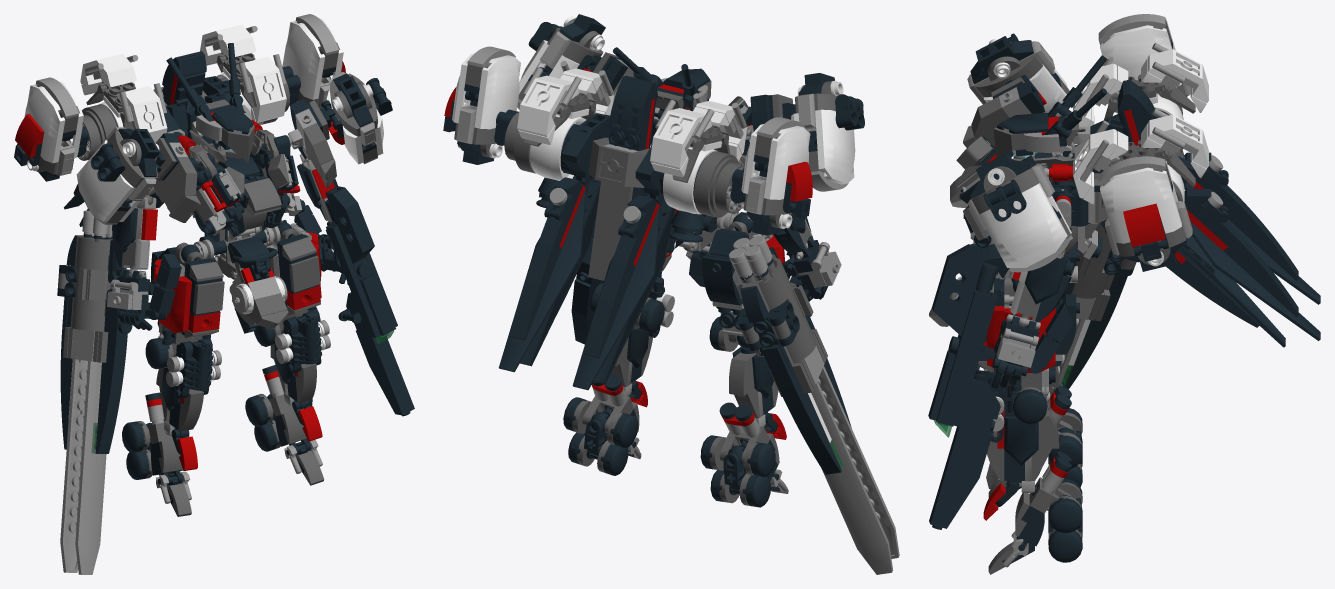
File: refx-tn-33-suzume.dae
3 views of the same model, side by side, from view 1: azimuth 30°, elevation 25°; view 2: azimuth 150°, elevation 25°; view 3: azimuth 270°, elevation 25° (orthographic). The views are drawn at different scales.
Bounding box in the file's own units: 508 × 457 × 654.
